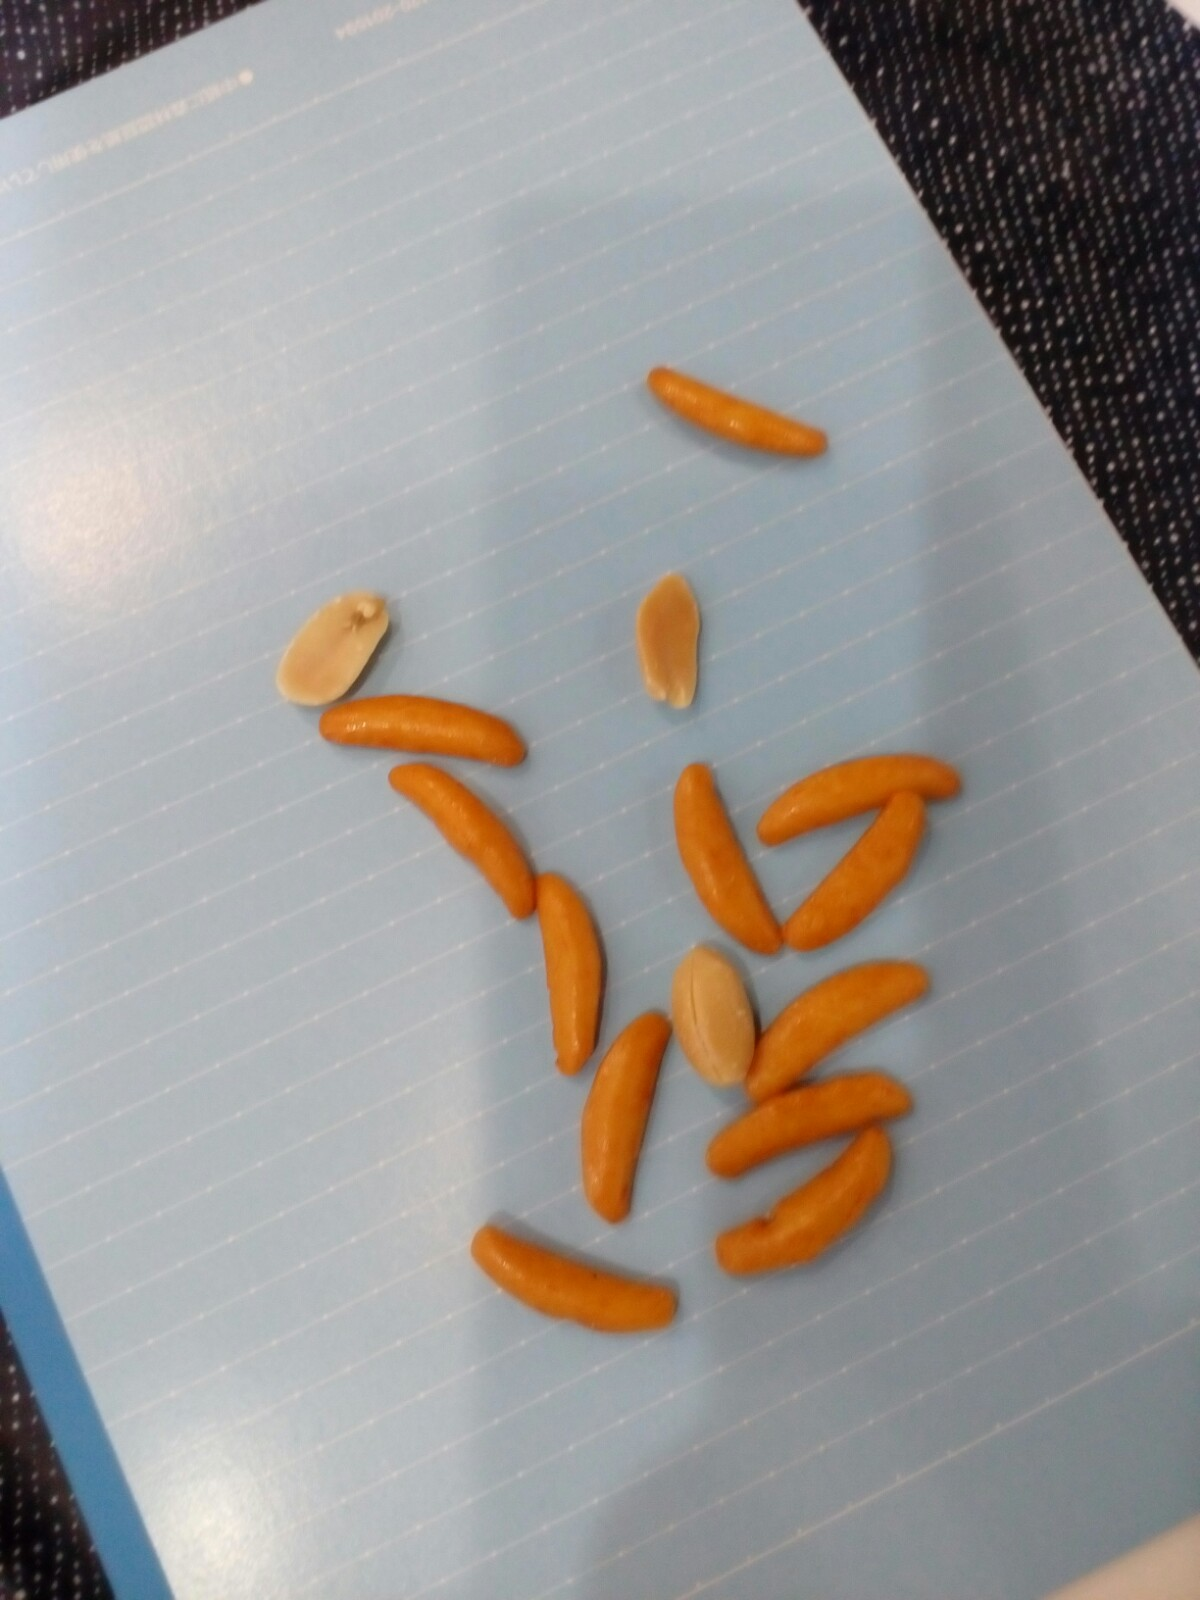peanut: (666, 931, 773, 1097), (274, 585, 400, 714), (635, 561, 722, 727)
